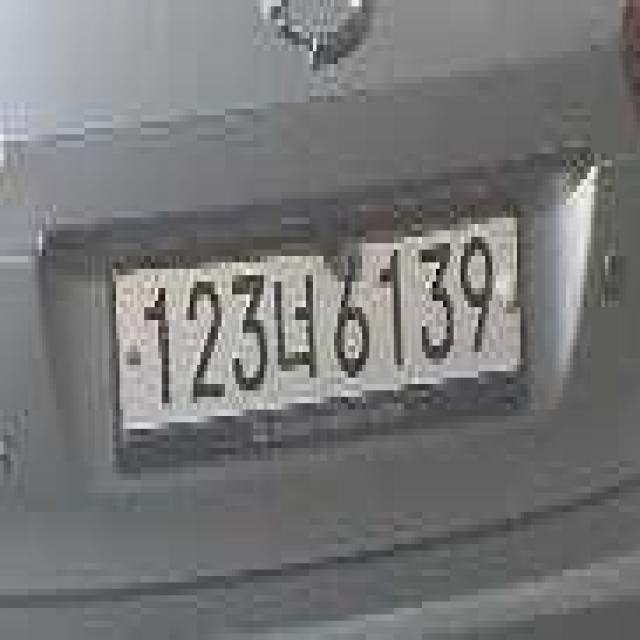illegal_plate: (103, 202, 534, 464)
